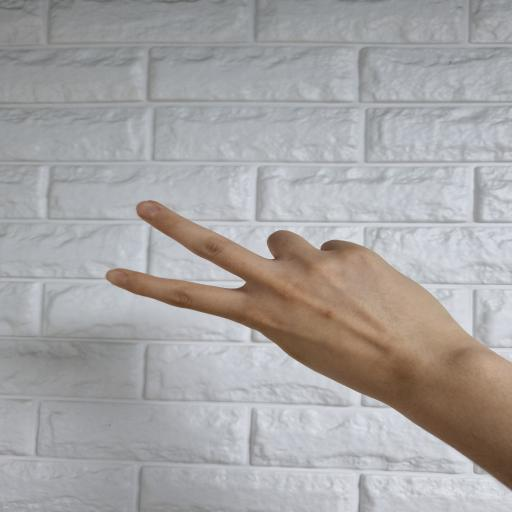Scissors: (105, 200, 512, 490)
